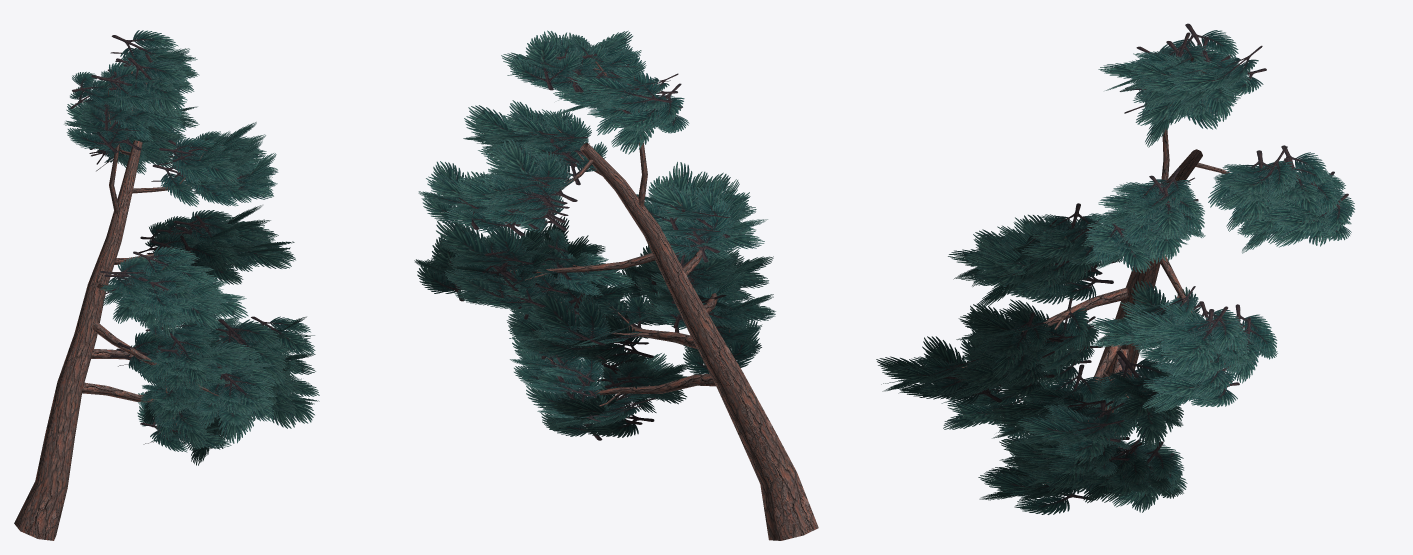
The model's file is nature-blue-windswept-pine_v2.glb.
The picture shows the model from 3 angles, left to right: view 1: azimuth 30°, elevation 25°; view 2: azimuth 150°, elevation 25°; view 3: azimuth 270°, elevation 25°; orthographic projection. The views are drawn at different scales.
Parts seen in each view (by area): view 1: nature-blue-windswept-pine; view 2: nature-blue-windswept-pine; view 3: nature-blue-windswept-pine.
Part boxes in pixels (x1,y1,x2,y2): nature-blue-windswept-pine: (14, 30, 319, 540); nature-blue-windswept-pine: (414, 30, 818, 540); nature-blue-windswept-pine: (876, 23, 1355, 514).
Bounding box in the file's own units: 6.21 × 7.85 × 7.44.
Materials: 2 (2 with a texture image).
